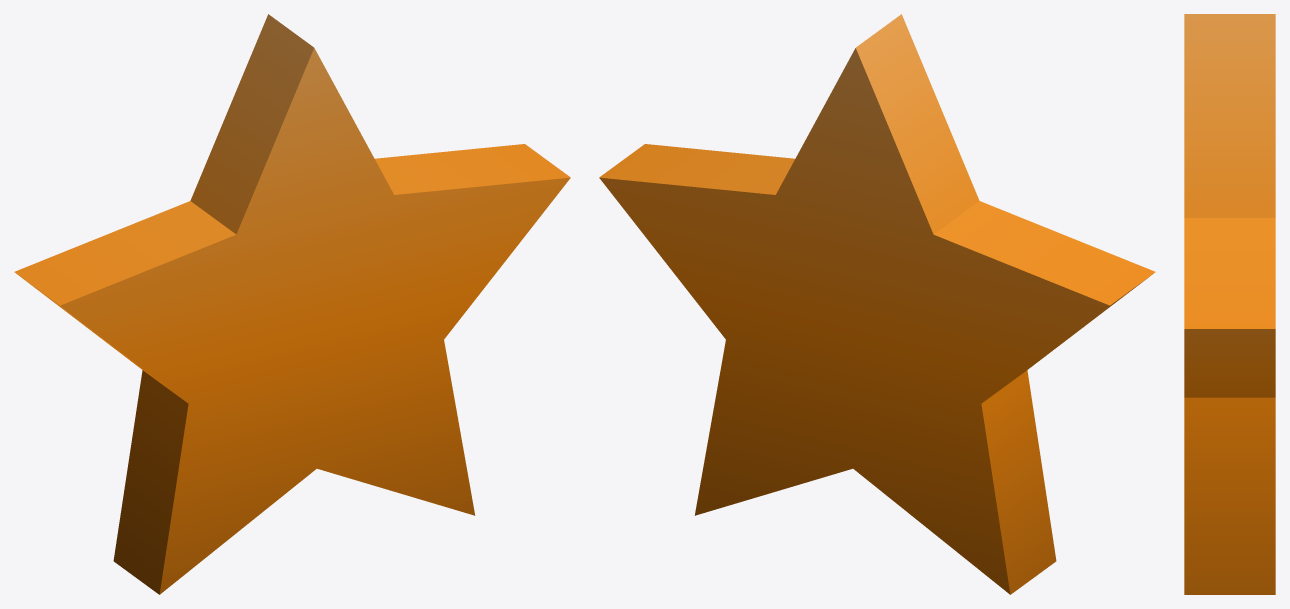
The model's file is Collectable_Star_01.fbx.
3 renders of one model, left to right at view 1: azimuth 30°, elevation 25°; view 2: azimuth 150°, elevation 25°; view 3: azimuth 270°, elevation 25°, orthographic.
Visible parts, largest first — view 1: Collectable_Star_01; view 2: Collectable_Star_01; view 3: Collectable_Star_01.
Boxes of the visible parts, x1,y1,x2,y2 form: Collectable_Star_01: [14, 14, 570, 594]; Collectable_Star_01: [599, 14, 1155, 594]; Collectable_Star_01: [1184, 14, 1275, 594].
Bounding box in the file's own units: 75.18 × 71.65 × 11.73.
